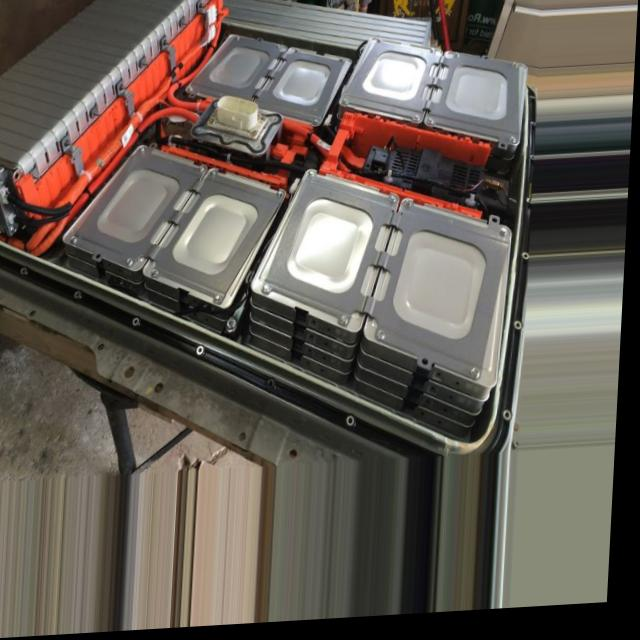Battery Module: (0, 0, 161, 146), (386, 221, 495, 360), (280, 189, 387, 311), (162, 186, 269, 288), (88, 157, 188, 254), (352, 52, 432, 111), (207, 47, 268, 96), (452, 78, 500, 132)
Bolt: (330, 55, 353, 86), (500, 62, 523, 90), (259, 283, 285, 303), (147, 266, 169, 289), (501, 139, 526, 158), (181, 78, 202, 98), (335, 315, 355, 334), (122, 253, 141, 273), (272, 46, 289, 66), (195, 164, 210, 186), (303, 120, 325, 135), (370, 333, 389, 350), (229, 316, 243, 336), (473, 374, 490, 388), (499, 232, 511, 251), (214, 289, 227, 306), (70, 232, 82, 250), (443, 53, 457, 68), (275, 191, 289, 204), (425, 121, 439, 134), (406, 201, 418, 214), (213, 169, 221, 182)
